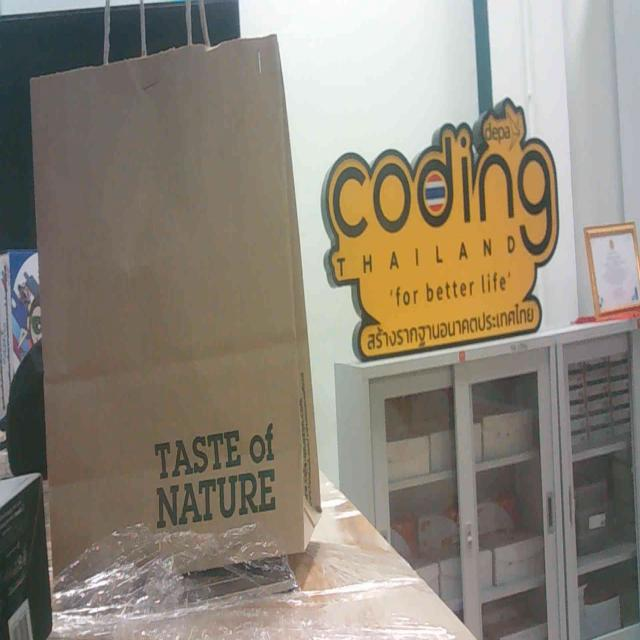bag: (32, 28, 329, 577)
